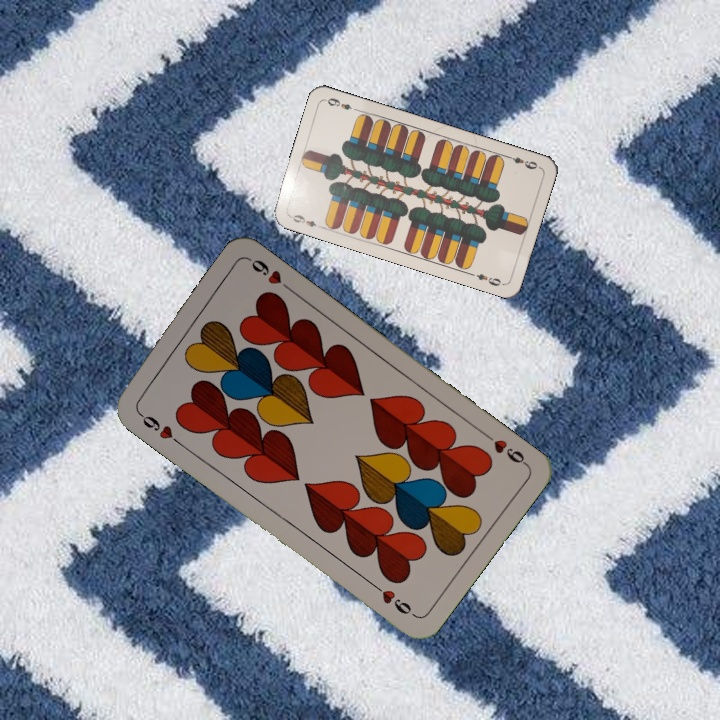E9: (286, 211, 325, 231), (503, 151, 540, 172)
H9: (133, 406, 184, 448), (478, 428, 530, 468)
